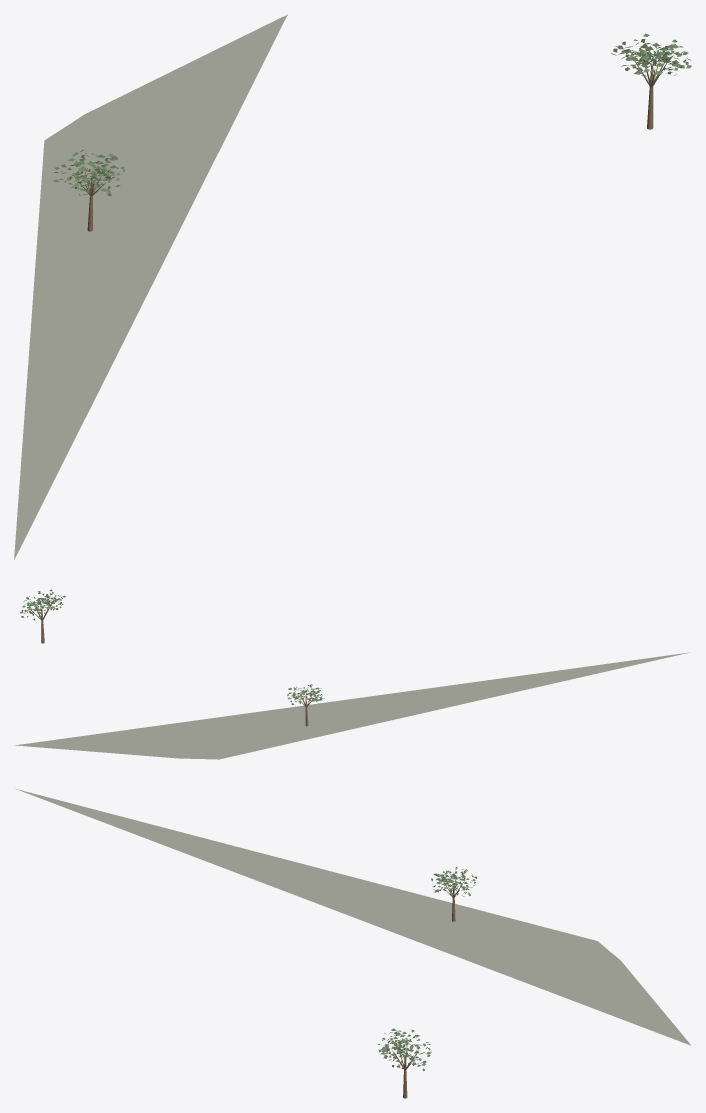
File: street_0_7.glb
3 renders of one model, top to bottom at view 1: azimuth 30°, elevation 25°; view 2: azimuth 150°, elevation 25°; view 3: azimuth 270°, elevation 25°, orthographic. The views are drawn at different scales.
Parts seen in each view (by area): view 1: ground.025, leaf.031, wood.079; view 2: ground.025, leaf.031, wood.079; view 3: ground.025, leaf.031.
Boxes of the visible parts, x1,y1,x2,y2 form: ground.025: (14,14,287,559); leaf.031: (52,33,691,195); wood.079: (74,54,667,231); ground.025: (15,652,688,759); leaf.031: (19,589,324,704); wood.079: (32,602,314,726); ground.025: (15,788,691,1045); leaf.031: (378,867,476,1071).
Size of the model in its own units: 48.67 by 4.31 by 43.33.
